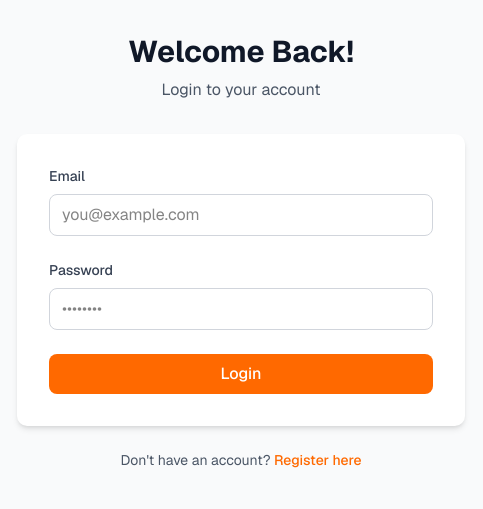
LoginPage › should show validation errors for empty fields
The image size is (483, 509).
# Click submit button without filling form
Click the button "Login".
click(241, 374)  # box [49, 354, 433, 394]
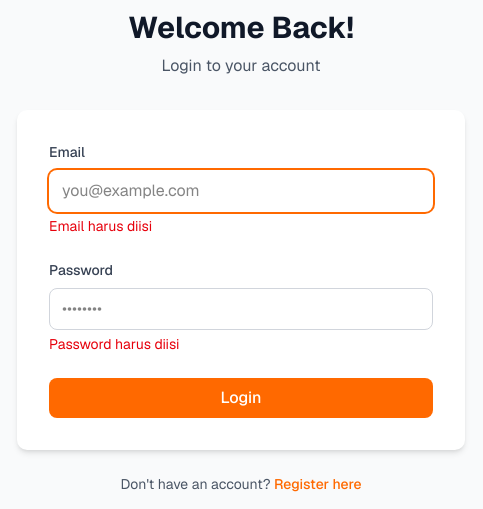
Expected: the text "Email harus diisi" is shown, [49, 217, 152, 235]
Expected: the text "Password harus diisi" is shown, [49, 335, 179, 353]
